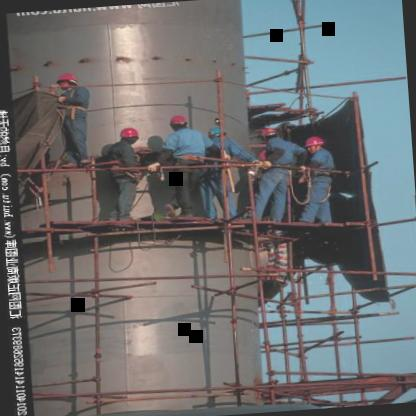helmet: (116, 127, 144, 148), (56, 72, 83, 92), (166, 113, 192, 132), (304, 134, 326, 156), (258, 124, 282, 144), (206, 123, 227, 145)
